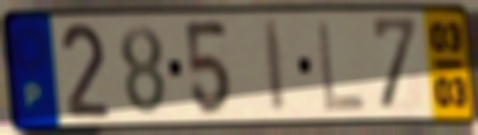2: (60, 20, 112, 121)
5: (182, 16, 234, 120)
7: (371, 14, 422, 115)
8: (116, 20, 169, 120)
I: (261, 18, 289, 117)
L: (314, 16, 368, 115)
